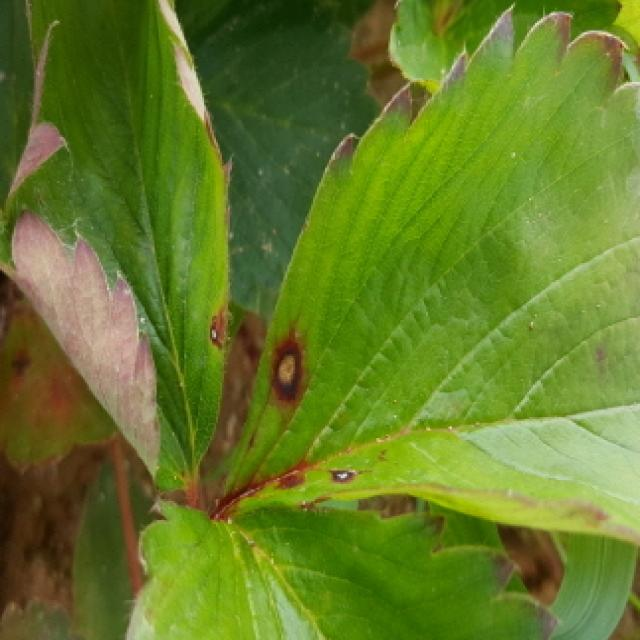Leaf Spot: (195, 4, 640, 548), (0, 0, 235, 499)
